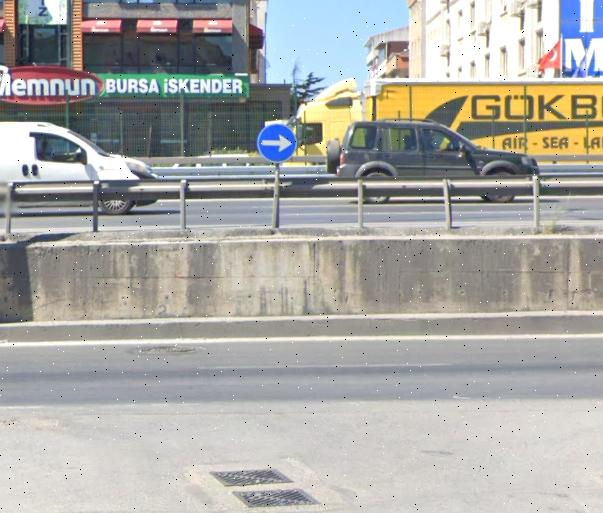turnright: (256, 122, 302, 172)
